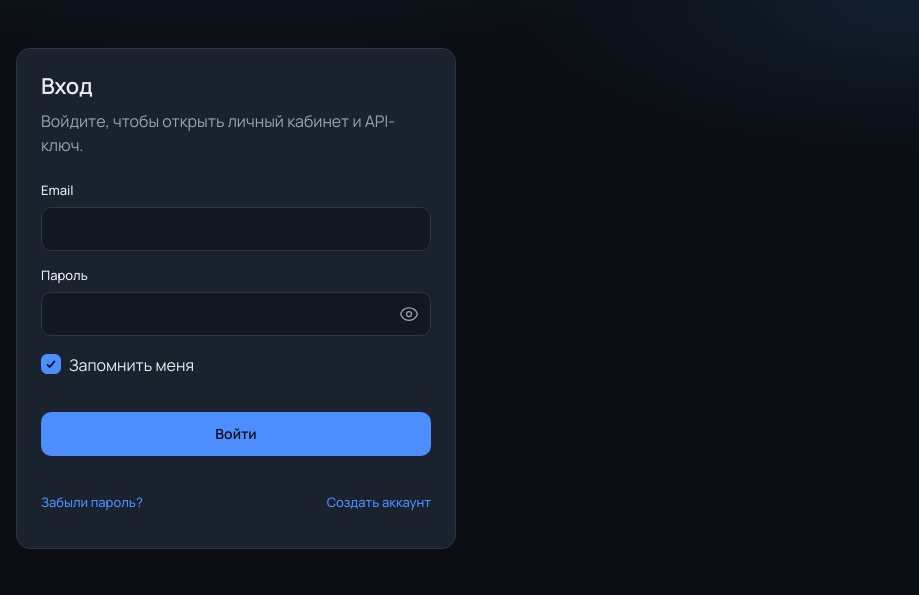
LoginPage › показывает ошибку некорректного email
Step 1. Type "not-an-email" into the field labelled "Email" → (236, 229), box [41,207,431,251]
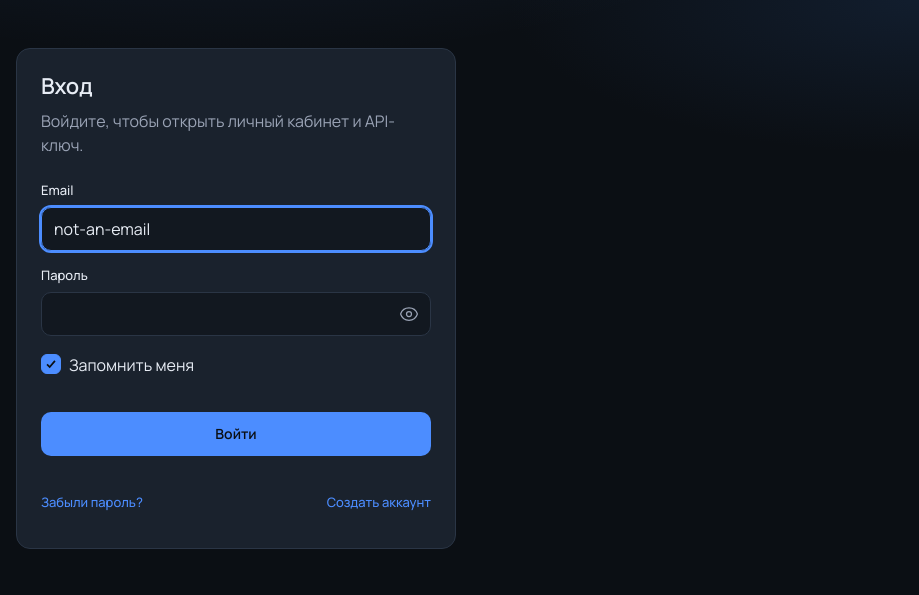
Step 2. Type "secret" into the password field labelled "Пароль" → (236, 314), box [41,292,431,336]
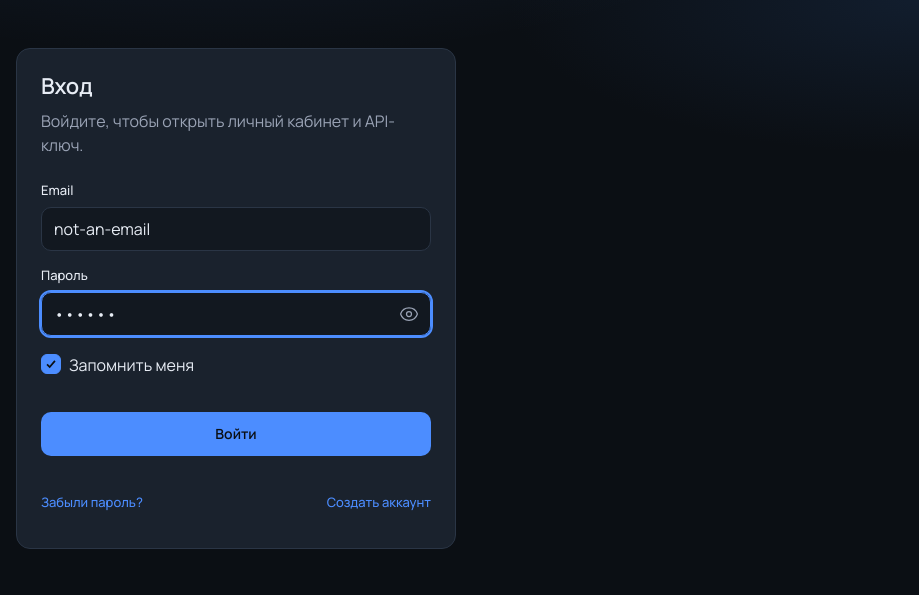
Step 3. Click the button "Войти" → (236, 434), box [41,412,431,456]
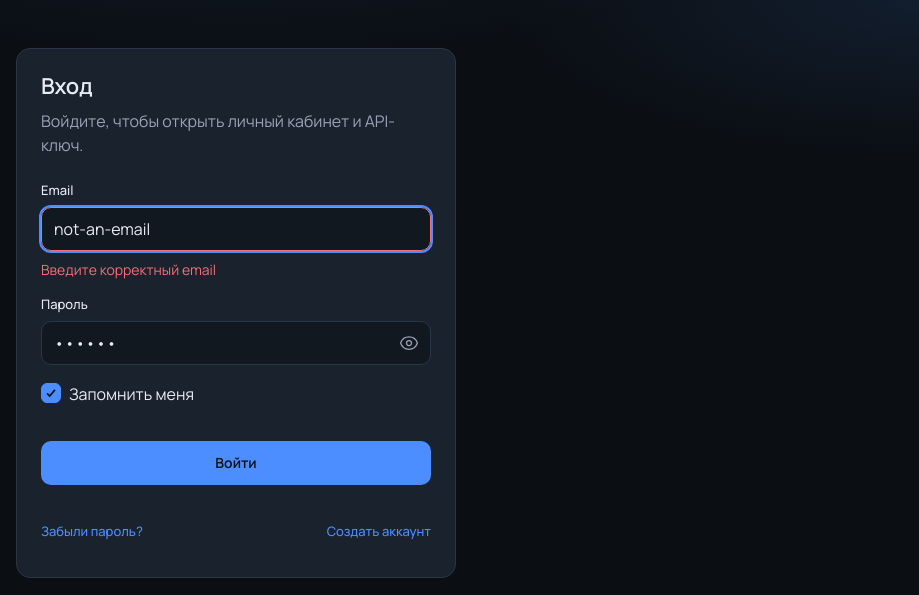
expect the text "Введите корректный email" is shown: met, box [41,260,216,279]
